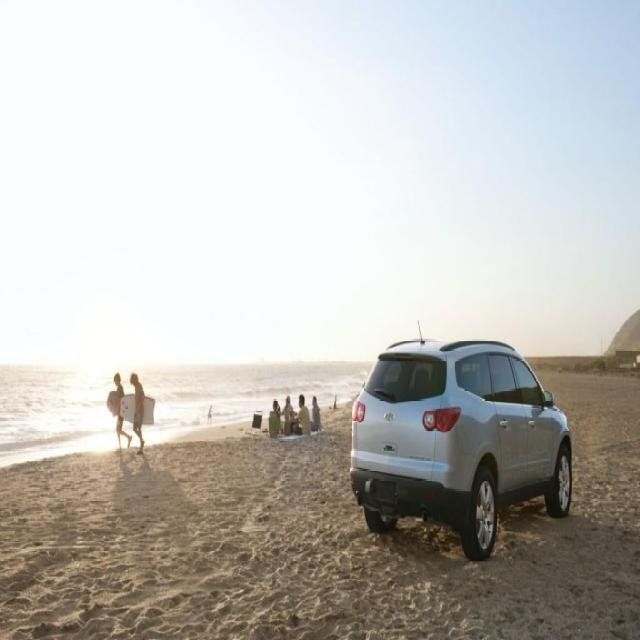Car: (348, 330, 576, 564)
